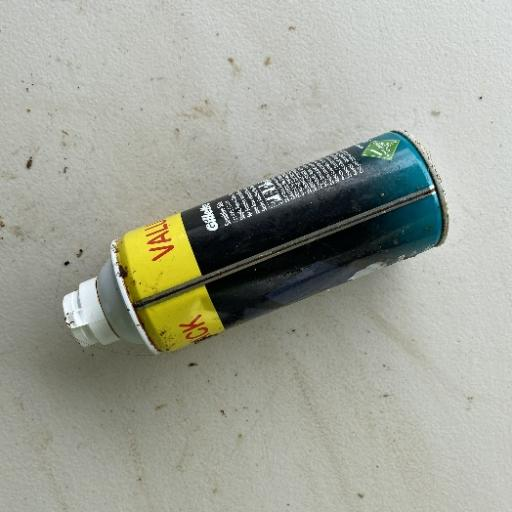Metal: (60, 125, 450, 357)
